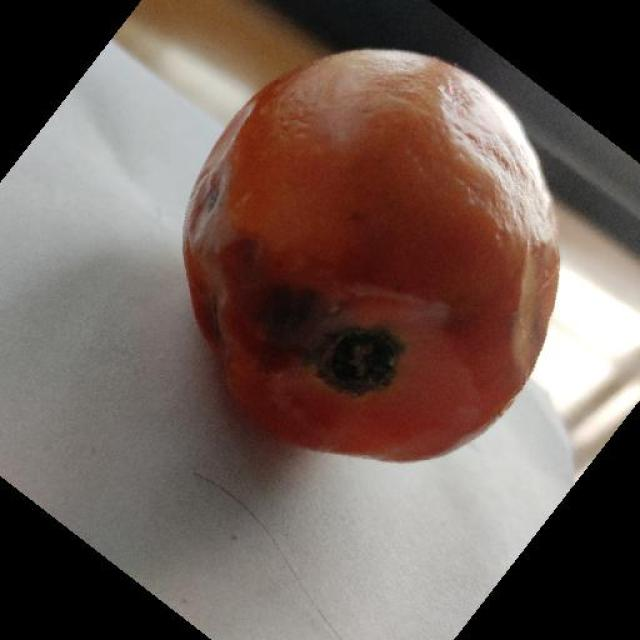Stale_tomato: (178, 53, 579, 435)
